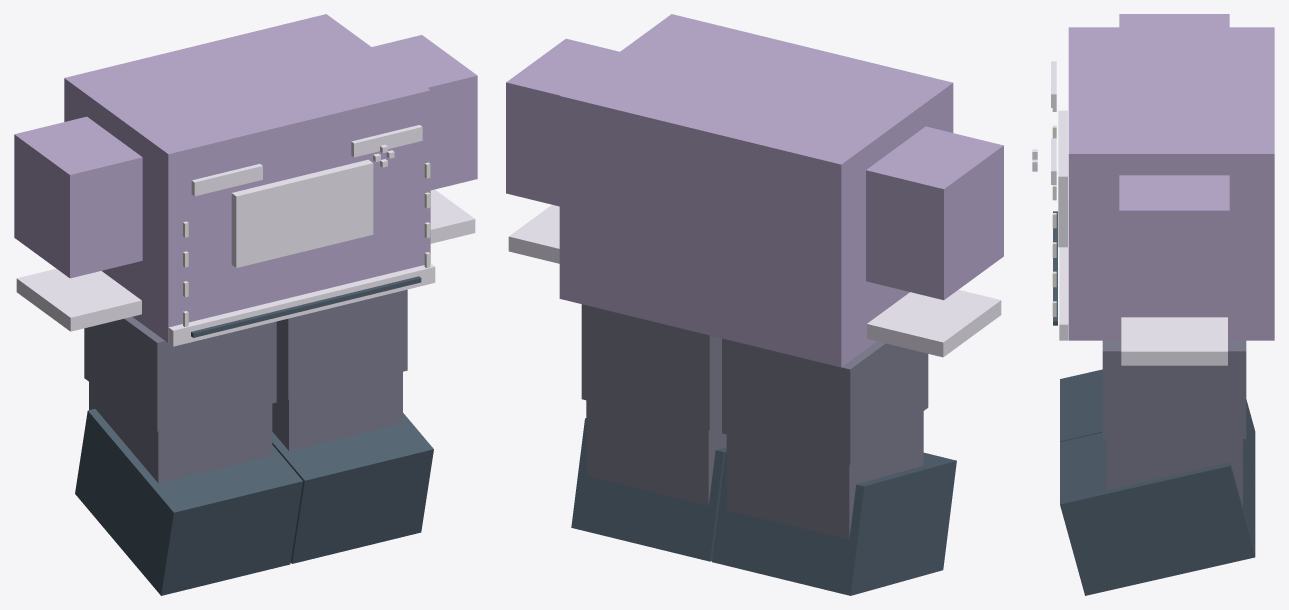
The model's file is casual-lavender.glb.
3 views of the same model, side by side, from view 1: azimuth 30°, elevation 25°; view 2: azimuth 150°, elevation 25°; view 3: azimuth 270°, elevation 25° (orthographic). The views are drawn at different scales.
Parts seen in each view (by area): view 1: jacket, shoe-Right, upper-sleeve-Right, trouser-Right, shoe-Left, tee-panel, trouser-Left, lower-trouser-Right, upper-sleeve-Left, lower-trouser-Left, cuff-Right, tee-hem (+4 smaller); view 2: jacket, upper-sleeve-Right, trouser-Right, shoe-Right, trouser-Left, lower-trouser-Right, lower-trouser-Left, upper-sleeve-Left, shoe-Left, cuff-Right, cuff-Left; view 3: jacket, shoe-Left, upper-sleeve-Left, trouser-Left, lower-trouser-Left, cuff-Left, shoe-Right, upper-sleeve-Right, tee-panel, tee-hem, design-casual-double-hem.
Boxes of the visible parts, x1,y1,x2,y2 form: jacket: [64, 14, 430, 342]; shoe-Right: [75, 409, 302, 595]; upper-sleeve-Right: [14, 116, 142, 278]; trouser-Right: [84, 317, 276, 431]; shoe-Left: [272, 413, 433, 563]; tee-panel: [231, 159, 373, 267]; trouser-Left: [276, 289, 407, 399]; lower-trouser-Right: [89, 382, 272, 482]; upper-sleeve-Left: [372, 35, 477, 190]; lower-trouser-Left: [272, 372, 402, 451]; cuff-Right: [16, 268, 141, 331]; tee-hem: [168, 263, 435, 346]; jacket: [559, 14, 953, 367]; upper-sleeve-Right: [866, 126, 1003, 300]; trouser-Right: [722, 338, 928, 464]; shoe-Right: [712, 452, 956, 595]; trouser-Left: [581, 304, 721, 430]; lower-trouser-Right: [726, 411, 923, 539]; lower-trouser-Left: [586, 400, 726, 505]; upper-sleeve-Left: [506, 38, 619, 206]; shoe-Left: [571, 418, 726, 561]; cuff-Right: [867, 289, 1001, 357]; cuff-Left: [508, 204, 559, 263]; jacket: [1068, 27, 1274, 340]; shoe-Left: [1060, 432, 1255, 595]; upper-sleeve-Left: [1119, 175, 1229, 312]; trouser-Left: [1102, 340, 1246, 438]; lower-trouser-Left: [1106, 439, 1242, 507]; cuff-Left: [1121, 317, 1227, 365]; shoe-Right: [1060, 369, 1255, 493]; upper-sleeve-Right: [1119, 14, 1229, 27]; tee-panel: [1058, 110, 1067, 247]; tee-hem: [1059, 198, 1068, 340]; design-casual-double-hem: [1053, 211, 1057, 325].
Bounding box in the file's own units: 1.07 × 1.13 × 0.559.
